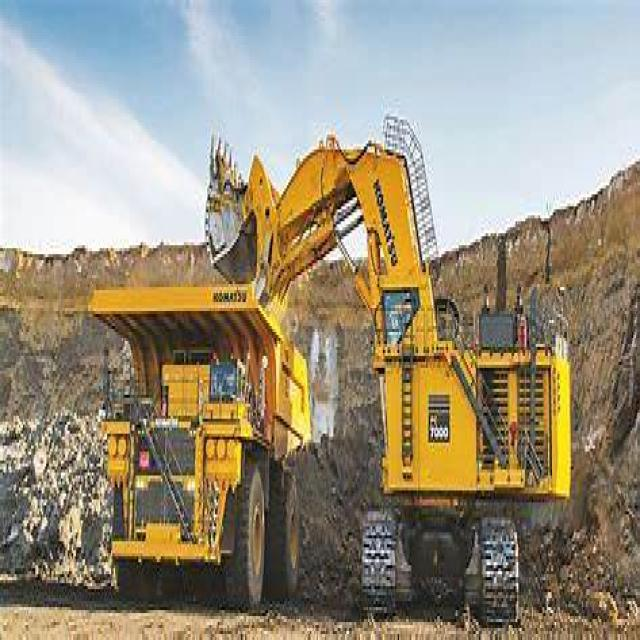dump_truck: (66, 269, 318, 625)
excavator: (211, 114, 576, 613)
